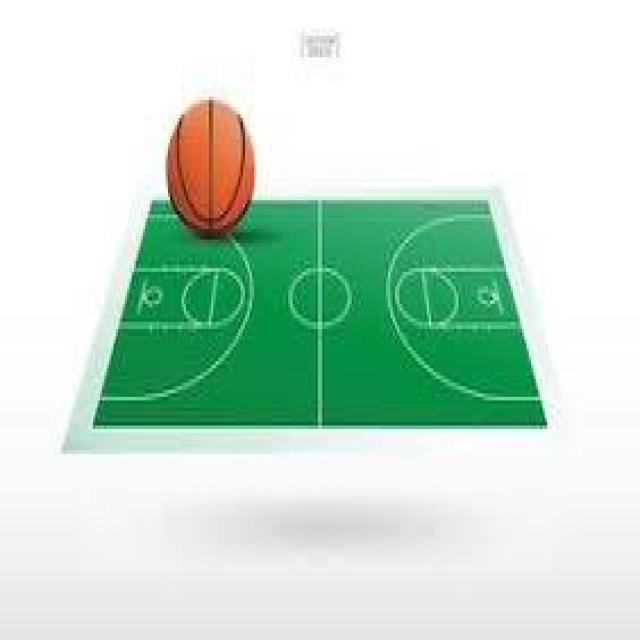ball: (156, 93, 264, 236)
